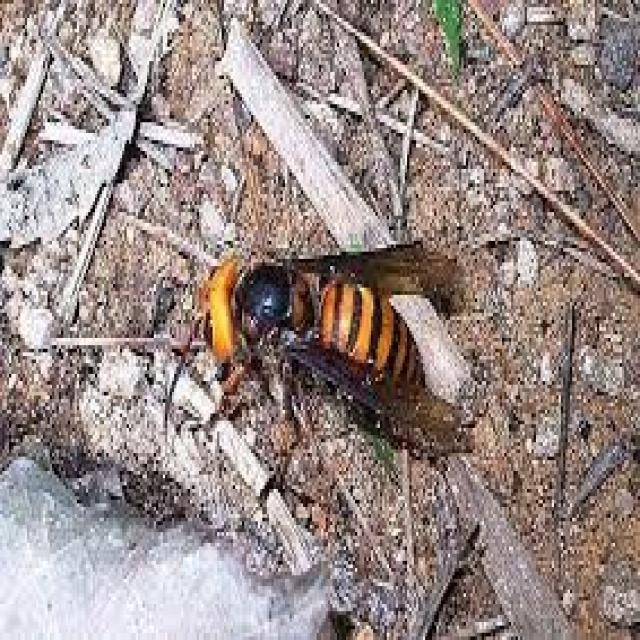Wasp: (183, 219, 464, 455)
